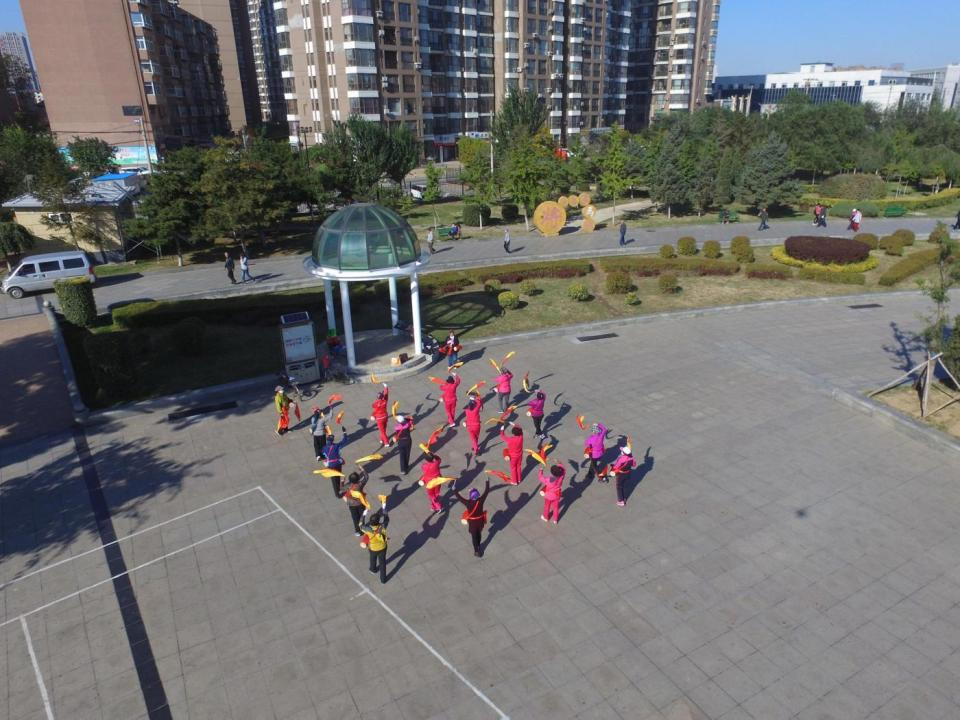car: (128, 166, 161, 180), (410, 184, 438, 200), (551, 146, 578, 160)
van: (0, 245, 99, 301), (118, 168, 146, 184)
